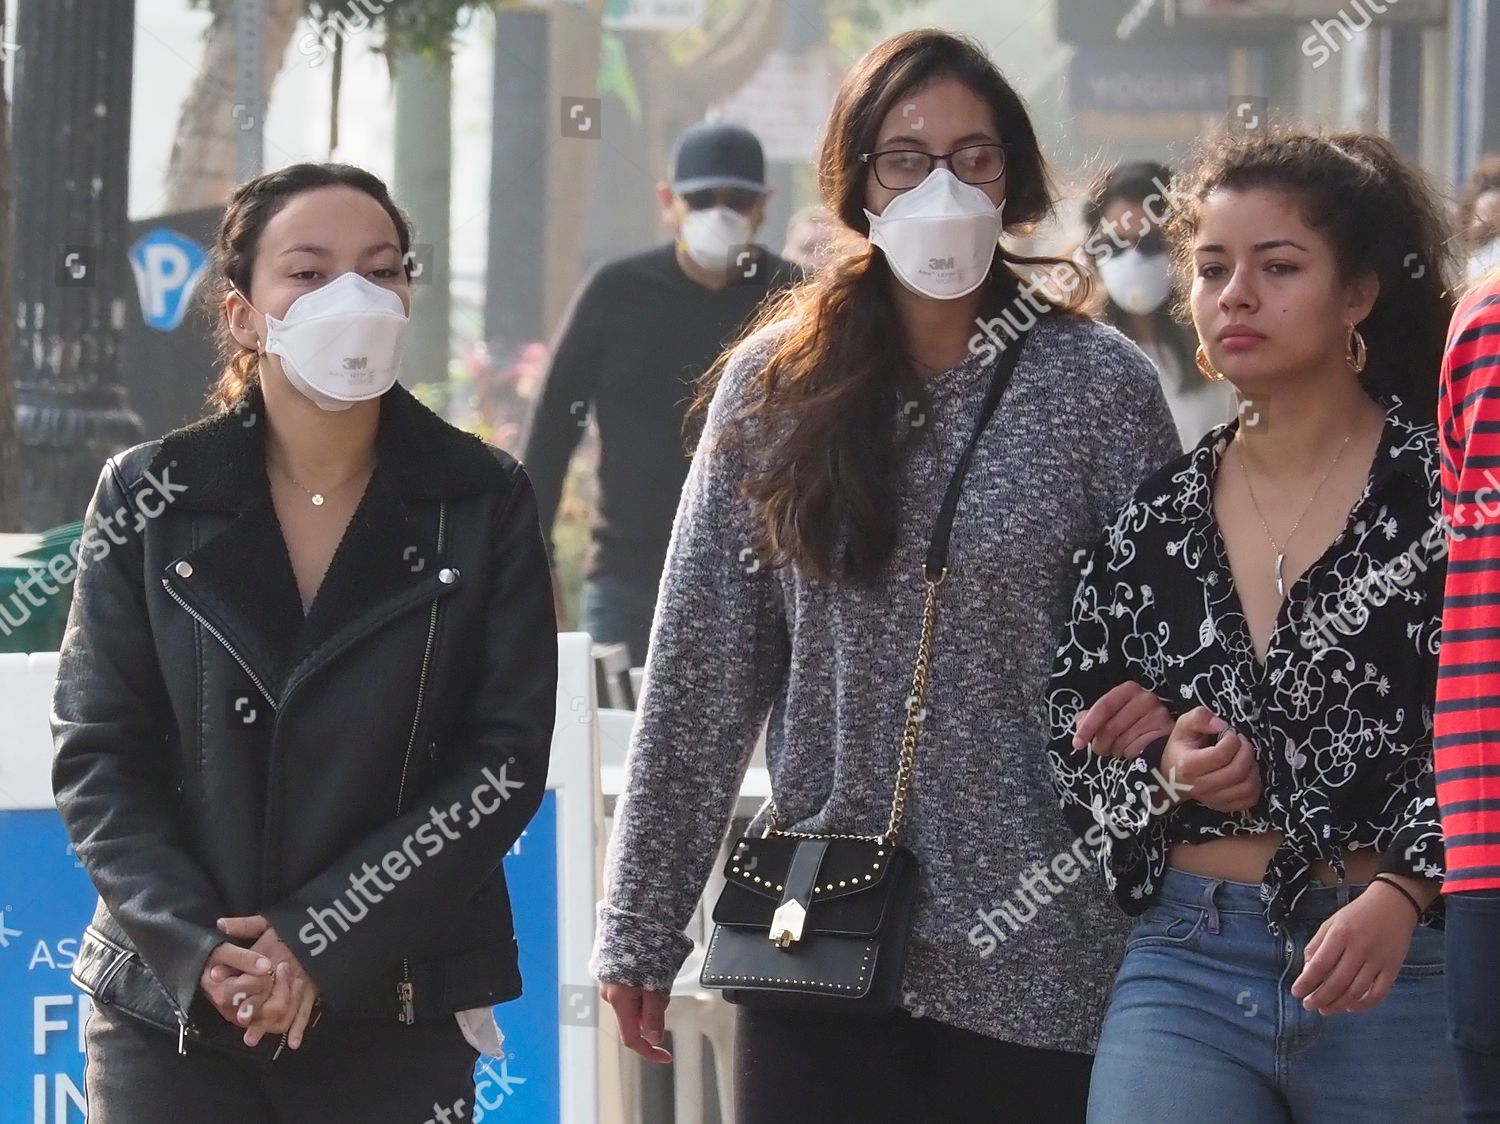bare: (1185, 281, 1332, 381)
n95: (243, 276, 422, 416), (855, 167, 1014, 301)
